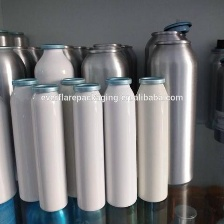aerosol_cans: (144, 37, 199, 188), (77, 44, 135, 183), (31, 40, 77, 184), (7, 75, 56, 204), (98, 74, 143, 210), (27, 80, 69, 213), (132, 74, 173, 206), (68, 79, 108, 213)
